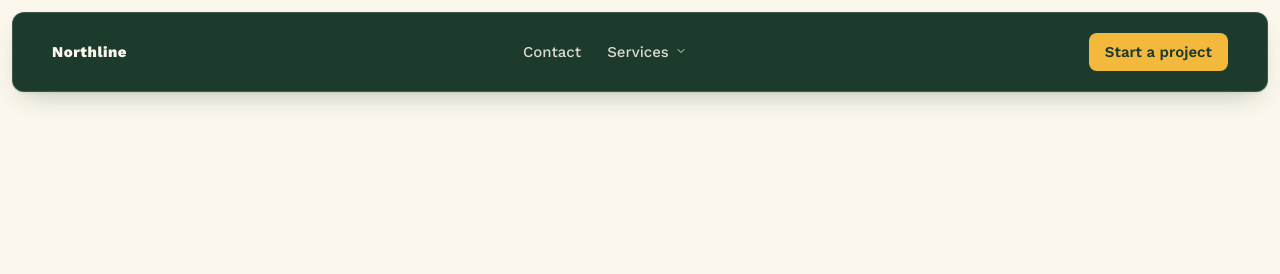
Test case: Site Header › renders authored identity, interactive navigation, and safe actions
Check: the header is shown, box [12, 12, 1268, 92]
Check: the navigation bar named "Main navigation" is shown, box [519, 30, 697, 74]
Click the button "Services": (647, 52) [597, 30, 697, 74]
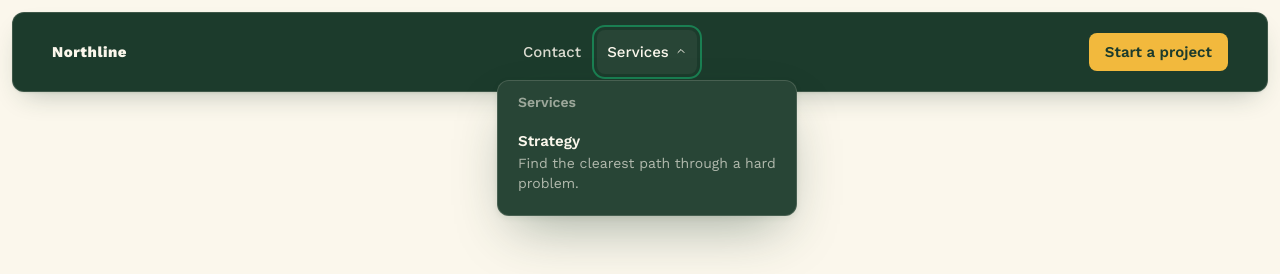
Check: the text "Find the clearest path through a hard problem." is shown, box [518, 154, 776, 193]
